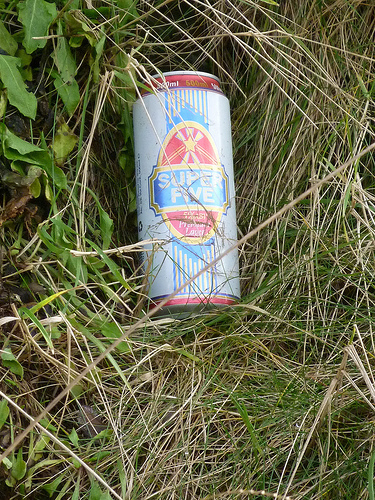litter: (132, 70, 241, 309)
